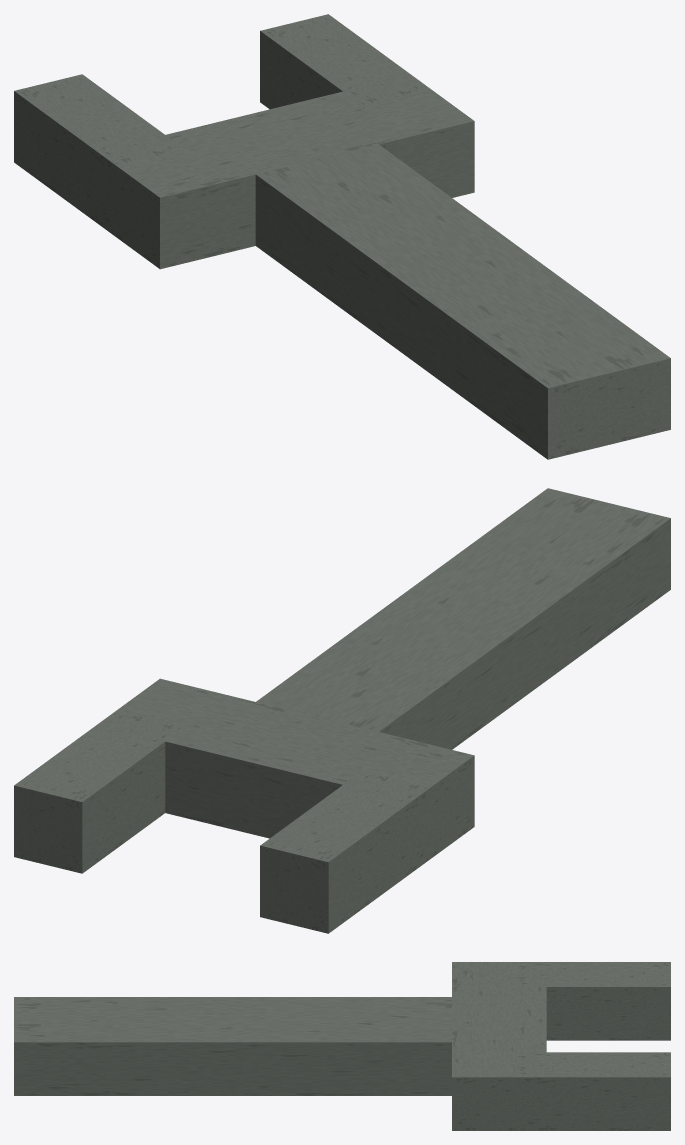
File: Spanner.fbx
3 views of the same model, one above another, from view 1: azimuth 30°, elevation 25°; view 2: azimuth 150°, elevation 25°; view 3: azimuth 270°, elevation 25° (orthographic). The views are drawn at different scales.
Visible parts, largest first — view 1: Spanner; view 2: Spanner; view 3: Spanner.
Boxes of the visible parts, bbox=[...] form: Spanner: bbox=[14, 14, 670, 459]; Spanner: bbox=[14, 488, 670, 933]; Spanner: bbox=[14, 962, 670, 1130].
Size of the model in its own units: 23 by 5 by 55.5.
